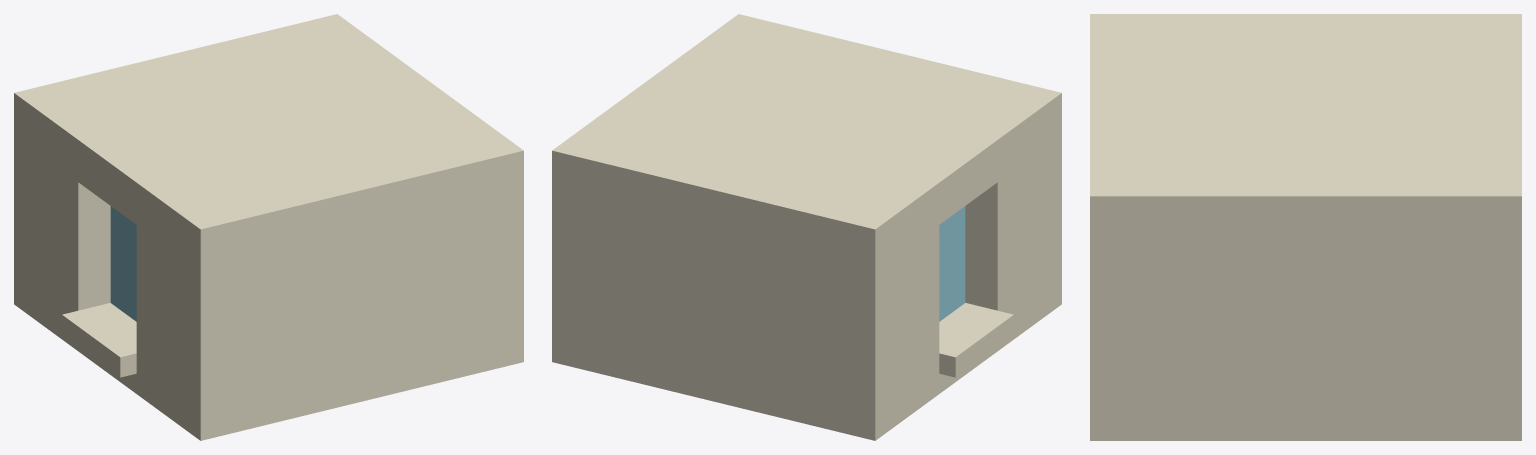
File: modularBuildings_047.fbx
3 renders of one model, left to right at view 1: azimuth 30°, elevation 25°; view 2: azimuth 150°, elevation 25°; view 3: azimuth 270°, elevation 25°, orthographic. The views are drawn at different scales.
Parts seen in each view (by area): view 1: Mesh1_Group1 Model; view 2: Mesh1_Group1 Model; view 3: Mesh1_Group1 Model.
Part boxes in pixels (x1,y1,x2,y2): Mesh1_Group1 Model: [14, 14, 523, 440]; Mesh1_Group1 Model: [552, 14, 1061, 440]; Mesh1_Group1 Model: [1090, 14, 1521, 440].
Size of the model in its own units: 1.05 by 0.625 by 1.
